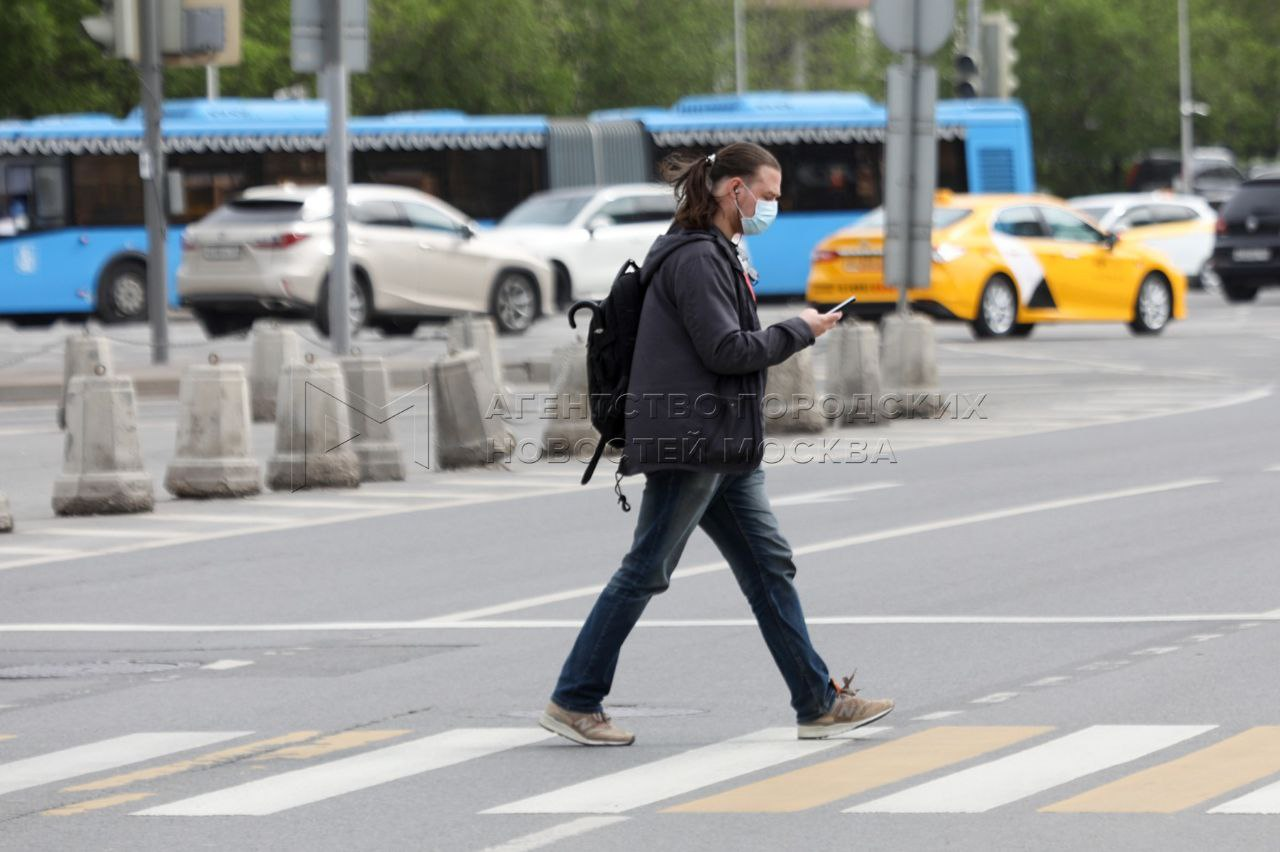sombie: (517, 126, 910, 759)
